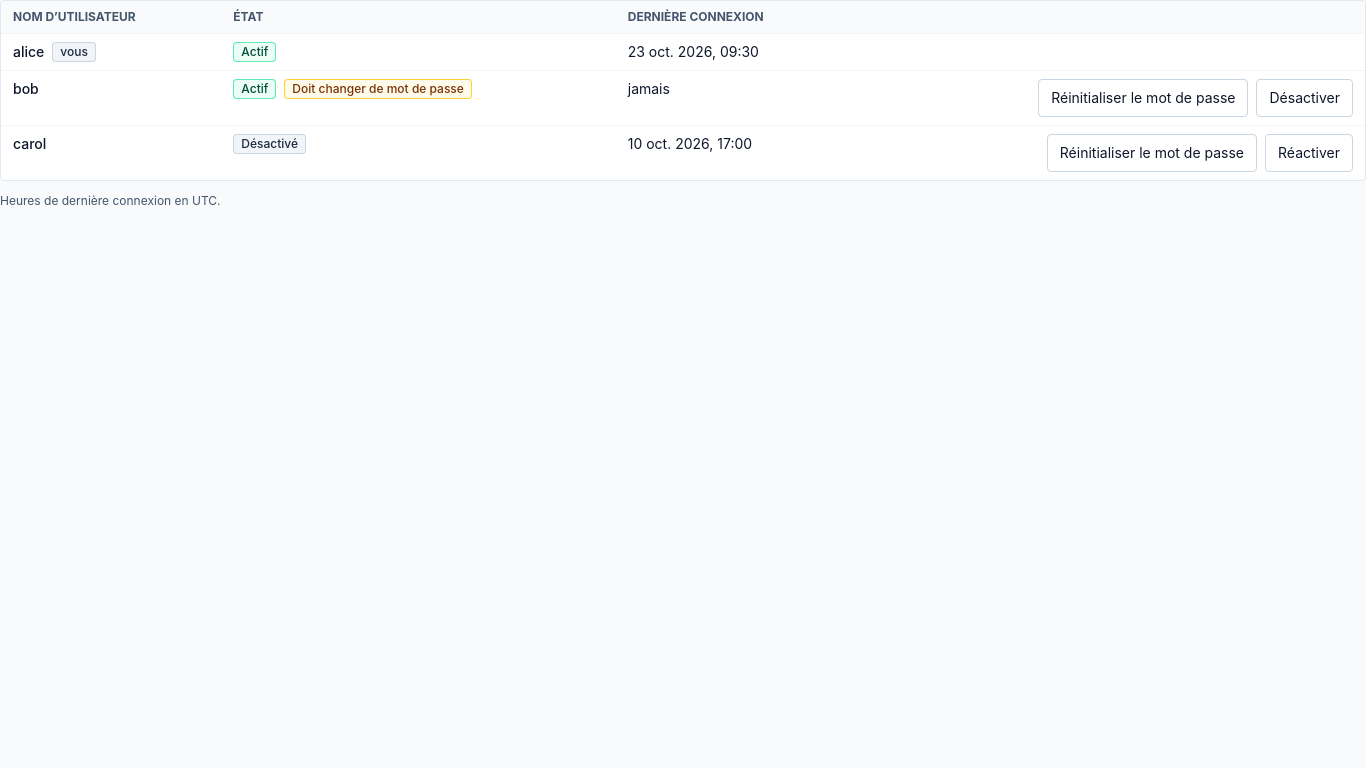
Test case: OperatorsTable: disable › shows the guard of the admin API, translated, and empties the password
Click the button with aria-label "Désactiver bob". click: (1305, 98)
box: [1256,79,1353,117]
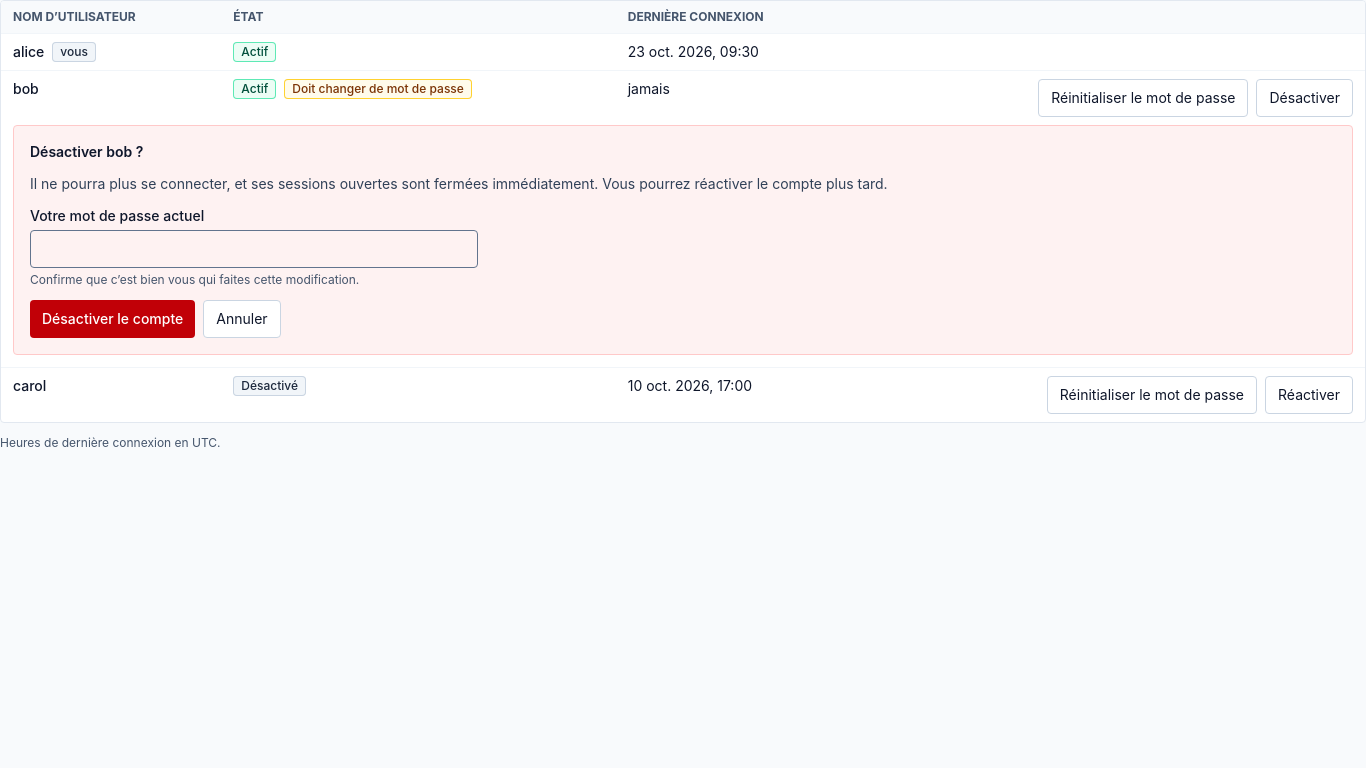
Type "my current password" into the password field labelled "Votre mot de passe actuel". click: (254, 249)
box: [30,230,478,268]
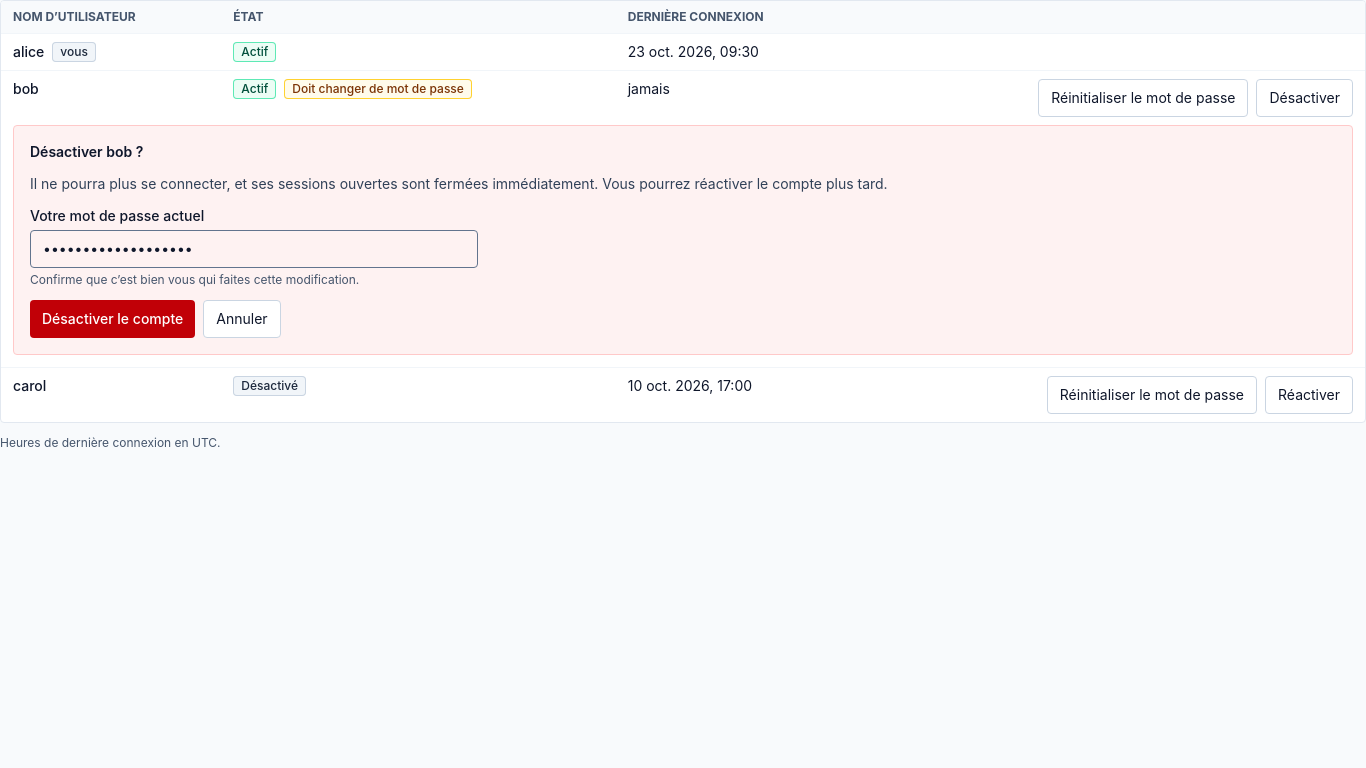
Click the button "Désactiver le compte". click: (113, 319)
box: [30,300,195,338]
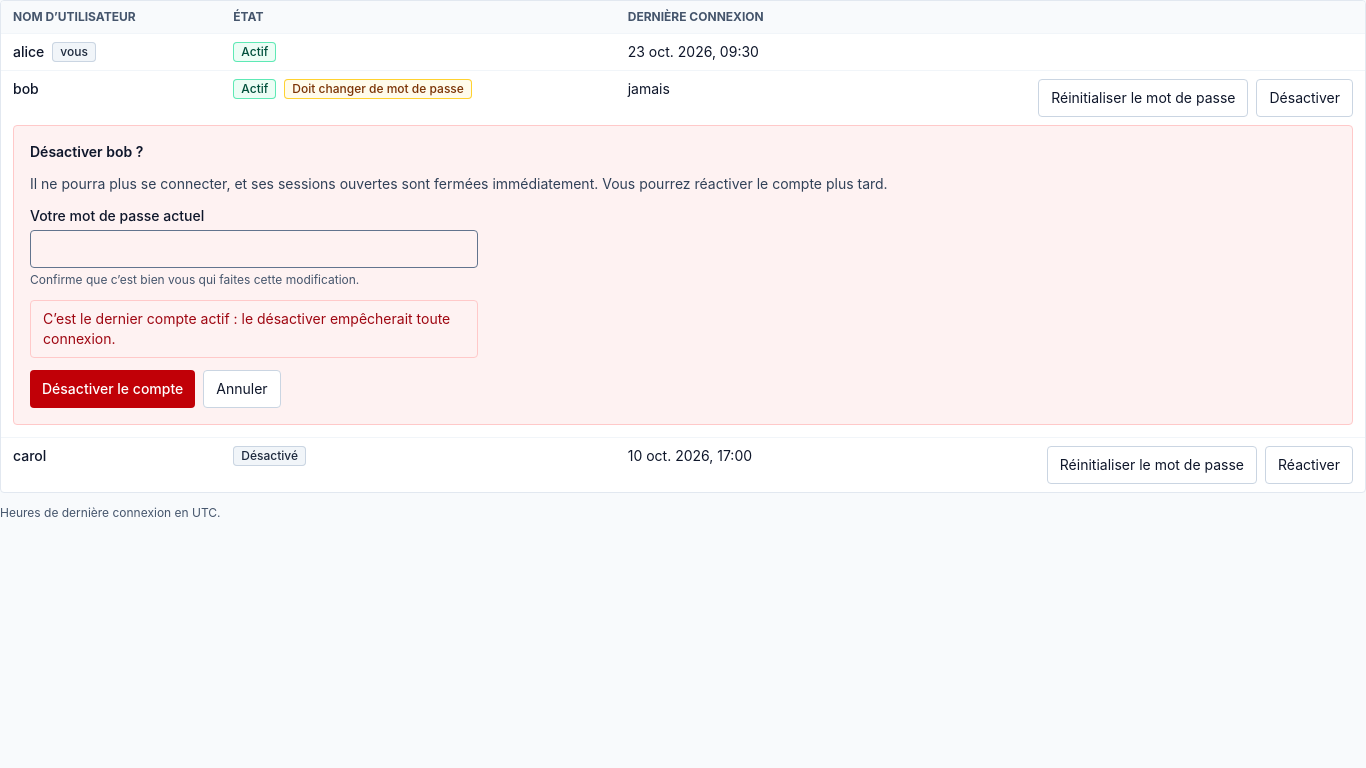
Expected: the dialog is shown, [13,125,1353,425]
Expected: the message shows "C’est le dernier compte actif", [43,310,450,347]
Expected: the password field labelled "Votre mot de passe actuel" is empty, [30,230,478,268]
